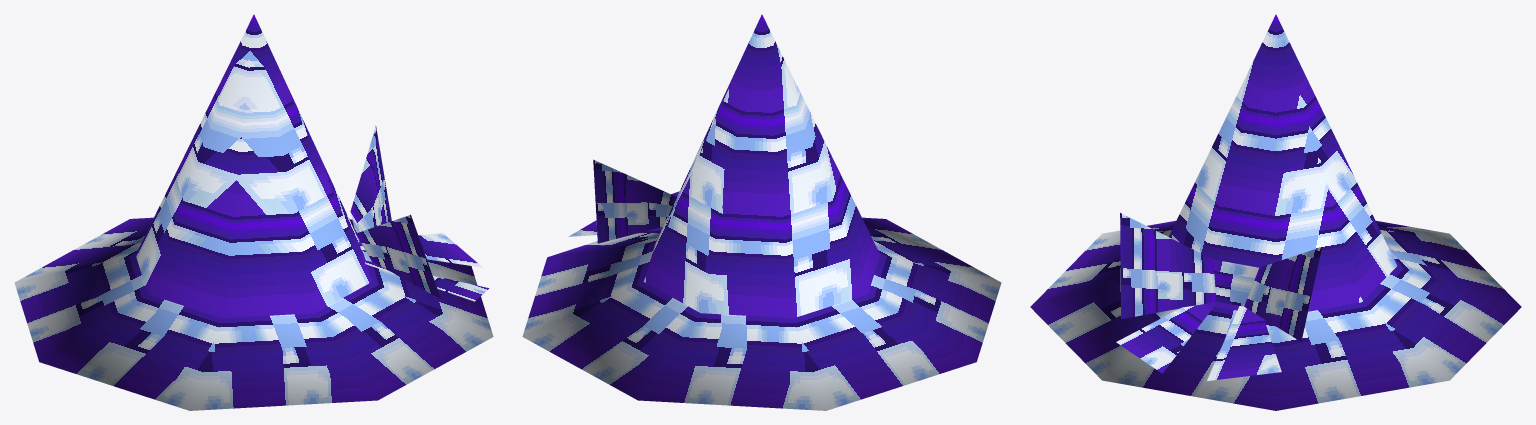
The model's file is 2931head081_c.gltf.
3 renders of one model, left to right at view 1: azimuth 30°, elevation 25°; view 2: azimuth 150°, elevation 25°; view 3: azimuth 270°, elevation 25°, orthographic.
Parts seen in each view (by area): view 1: 2931head081_c; view 2: 2931head081_c; view 3: 2931head081_c.
Part boxes in pixels (left/top/right/bottom): 2931head081_c: left=14, top=14, right=493, bottom=410; 2931head081_c: left=522, top=14, right=1001, bottom=410; 2931head081_c: left=1030, top=14, right=1521, bottom=410.
Bounding box in the file's own units: 0.7422 × 0.5134 × 0.7422.
1 material, 1 textured.
